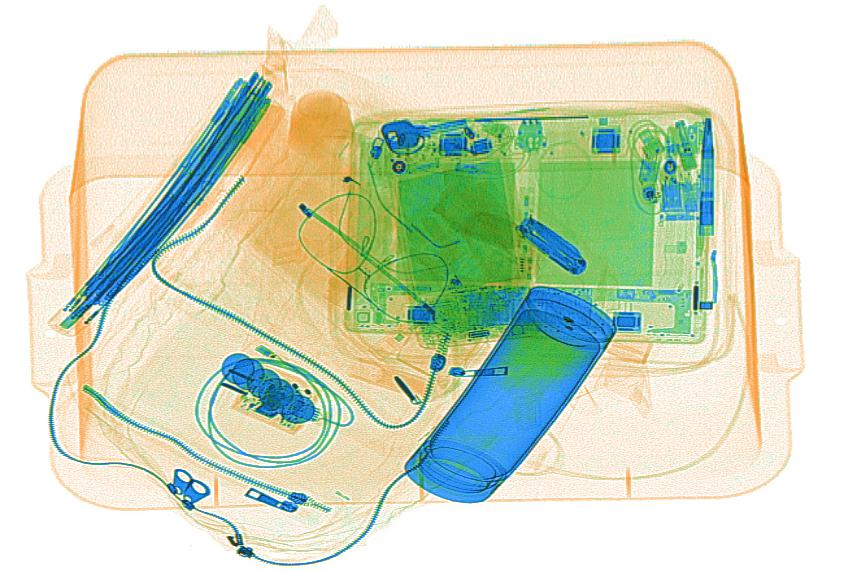knife: (515, 216, 587, 276)
